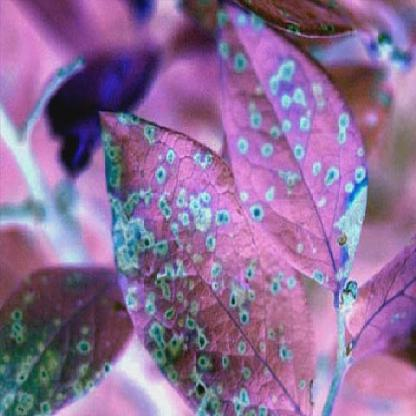Tomato Septoria leaf spot: (95, 105, 319, 413), (209, 6, 365, 324)
